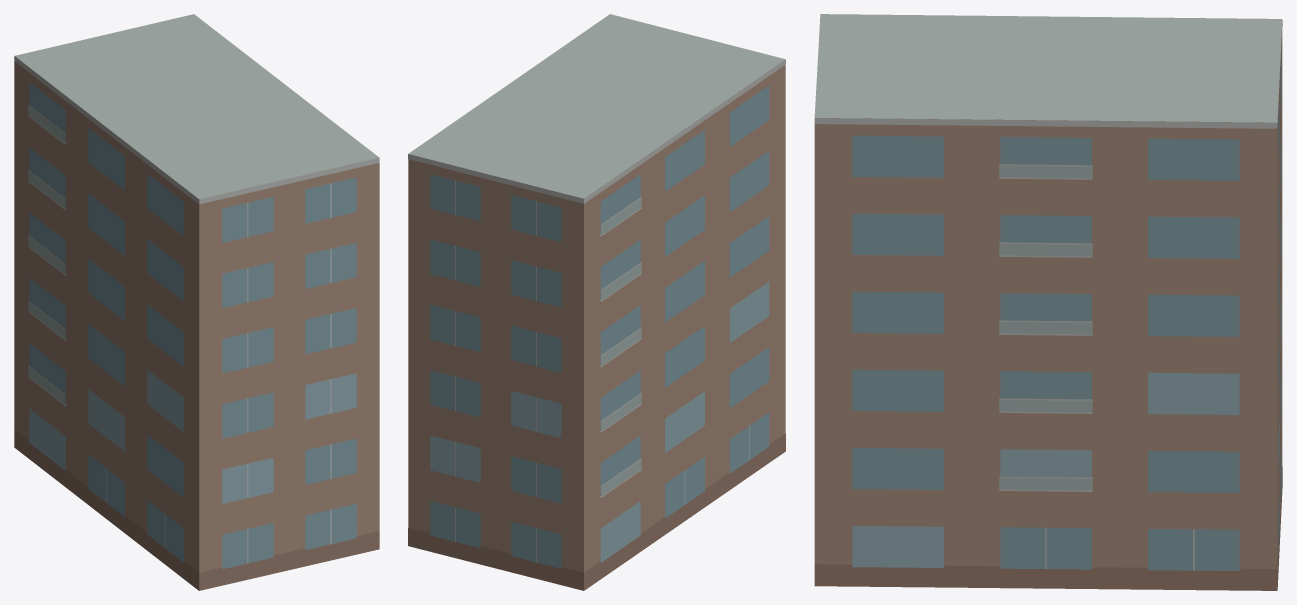
File: survey-upis-32774576.glb
The picture shows the model from 3 angles, left to right: view 1: azimuth 30°, elevation 25°; view 2: azimuth 150°, elevation 25°; view 3: azimuth 270°, elevation 25°; orthographic projection. The views are drawn at different scales.
Visible parts, largest first — view 1: survey-upis-32774576.tmp; view 2: survey-upis-32774576.tmp; view 3: survey-upis-32774576.tmp.
Boxes of the visible parts, <box> form: survey-upis-32774576.tmp: <box>14,14,379,590</box>; survey-upis-32774576.tmp: <box>408,14,785,590</box>; survey-upis-32774576.tmp: <box>814,14,1282,590</box>.
Bounding box in the file's own units: 9.21 × 18.5 × 16.76.
